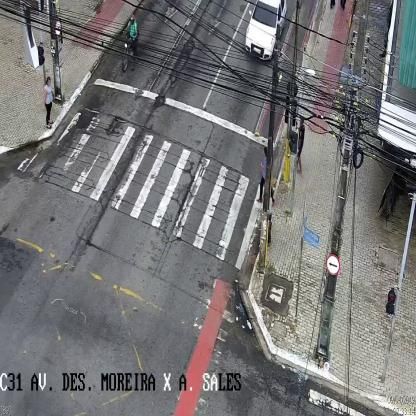car: (244, 0, 286, 58)
motorbike: (121, 13, 139, 71)
person: (256, 147, 274, 202), (43, 76, 54, 128), (297, 114, 305, 175)
